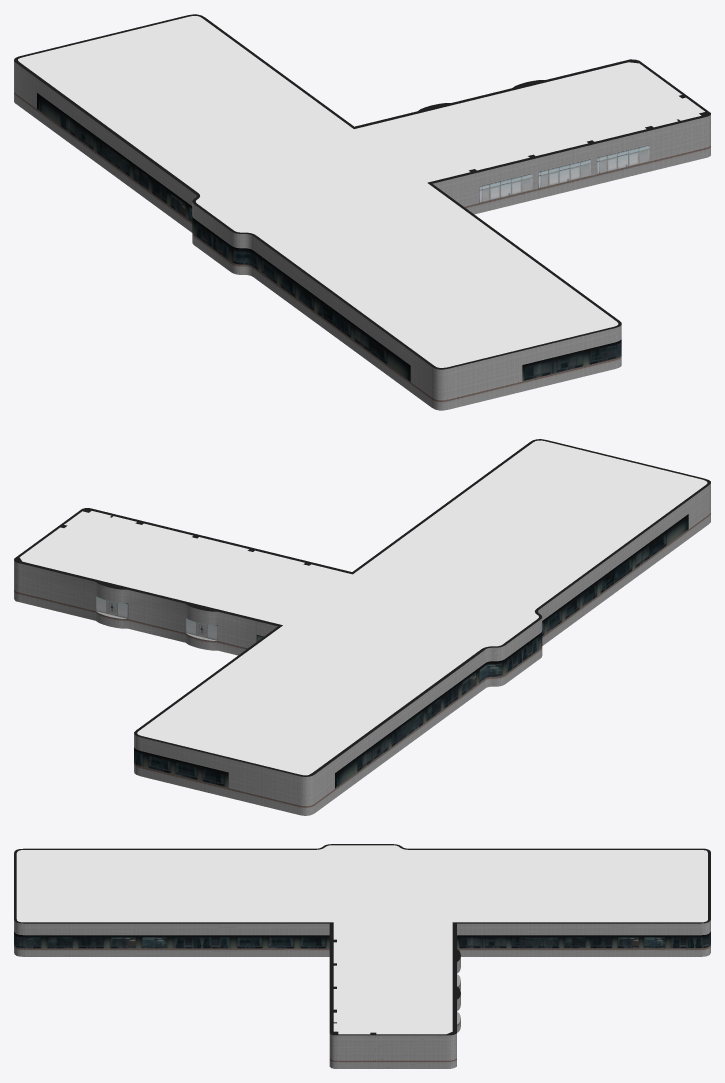
The picture shows the model from 3 angles, top to bottom: view 1: azimuth 30°, elevation 25°; view 2: azimuth 150°, elevation 25°; view 3: azimuth 270°, elevation 25°; orthographic projection. The views are drawn at different scales.
Parts seen in each view (by area): view 1: M_SUNGSIM0001F05F05_ISCL_0000001, M_SUNGSIM0001F05F05_ISWL_0000001, M_SUNGSIM0001F05F05_ISWD_0000002, M_SUNGSIM0001F05F05_ISWD_0000004, M_SUNGSIM0001F05F05_ISWD_0000006, M_SUNGSIM0001F05F05_ISWD_0000005, M_SUNGSIM0001F05F05_ISWD_0000007; view 2: M_SUNGSIM0001F05F05_ISCL_0000001, M_SUNGSIM0001F05F05_ISWL_0000001, M_SUNGSIM0001F05F05_ISWD_0000002, M_SUNGSIM0001F05F05_ISWD_0000004; view 3: M_SUNGSIM0001F05F05_ISCL_0000001, M_SUNGSIM0001F05F05_ISWL_0000001, M_SUNGSIM0001F05F05_ISWD_0000004.
Part boxes in pixels (box(x1,y1,x2,y2)): M_SUNGSIM0001F05F05_ISCL_0000001: box(18, 16, 704, 367); M_SUNGSIM0001F05F05_ISWL_0000001: box(14, 14, 710, 410); M_SUNGSIM0001F05F05_ISWD_0000002: box(37, 93, 410, 381); M_SUNGSIM0001F05F05_ISWD_0000004: box(522, 339, 621, 381); M_SUNGSIM0001F05F05_ISWD_0000006: box(479, 174, 532, 202); M_SUNGSIM0001F05F05_ISWD_0000005: box(538, 159, 590, 188); M_SUNGSIM0001F05F05_ISWD_0000007: box(597, 145, 649, 174); M_SUNGSIM0001F05F05_ISCL_0000001: box(19, 440, 707, 775); M_SUNGSIM0001F05F05_ISWL_0000001: box(14, 439, 710, 815); M_SUNGSIM0001F05F05_ISWD_0000002: box(335, 514, 688, 788); M_SUNGSIM0001F05F05_ISWD_0000004: box(134, 747, 228, 787); M_SUNGSIM0001F05F05_ISCL_0000001: box(16, 845, 707, 1034); M_SUNGSIM0001F05F05_ISWL_0000001: box(14, 844, 710, 1068); M_SUNGSIM0001F05F05_ISWD_0000004: box(14, 931, 710, 948).
Bounding box in the file's own units: 49.14 × 4 × 75.62.
Materials: 7 (7 with a texture image).
